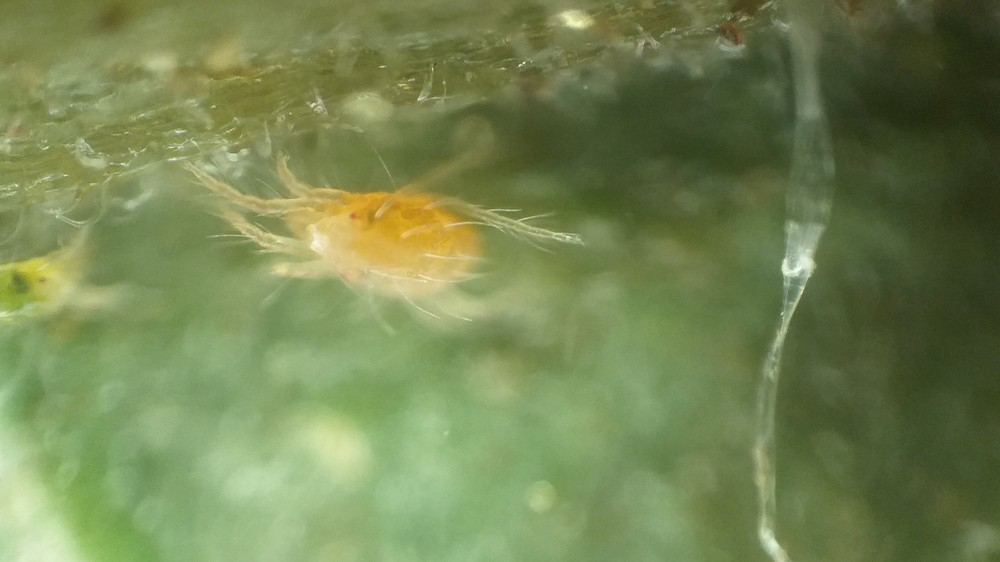Aracnido Rojo: (171, 119, 613, 374)
